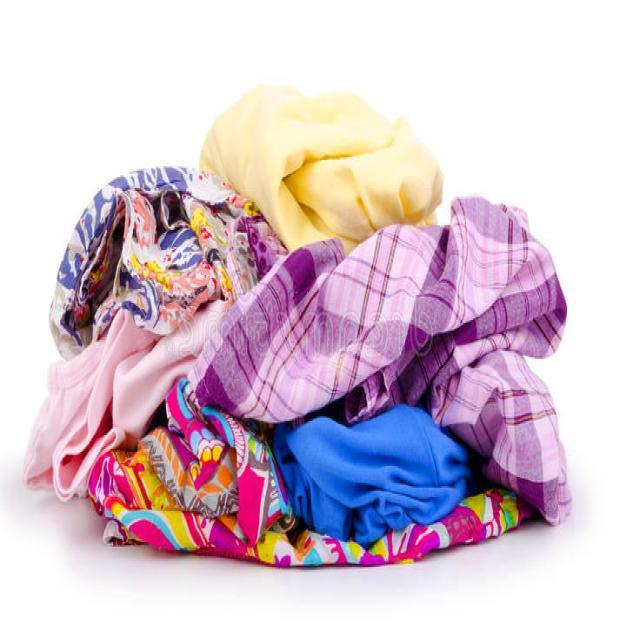clothes: (26, 133, 572, 584)
